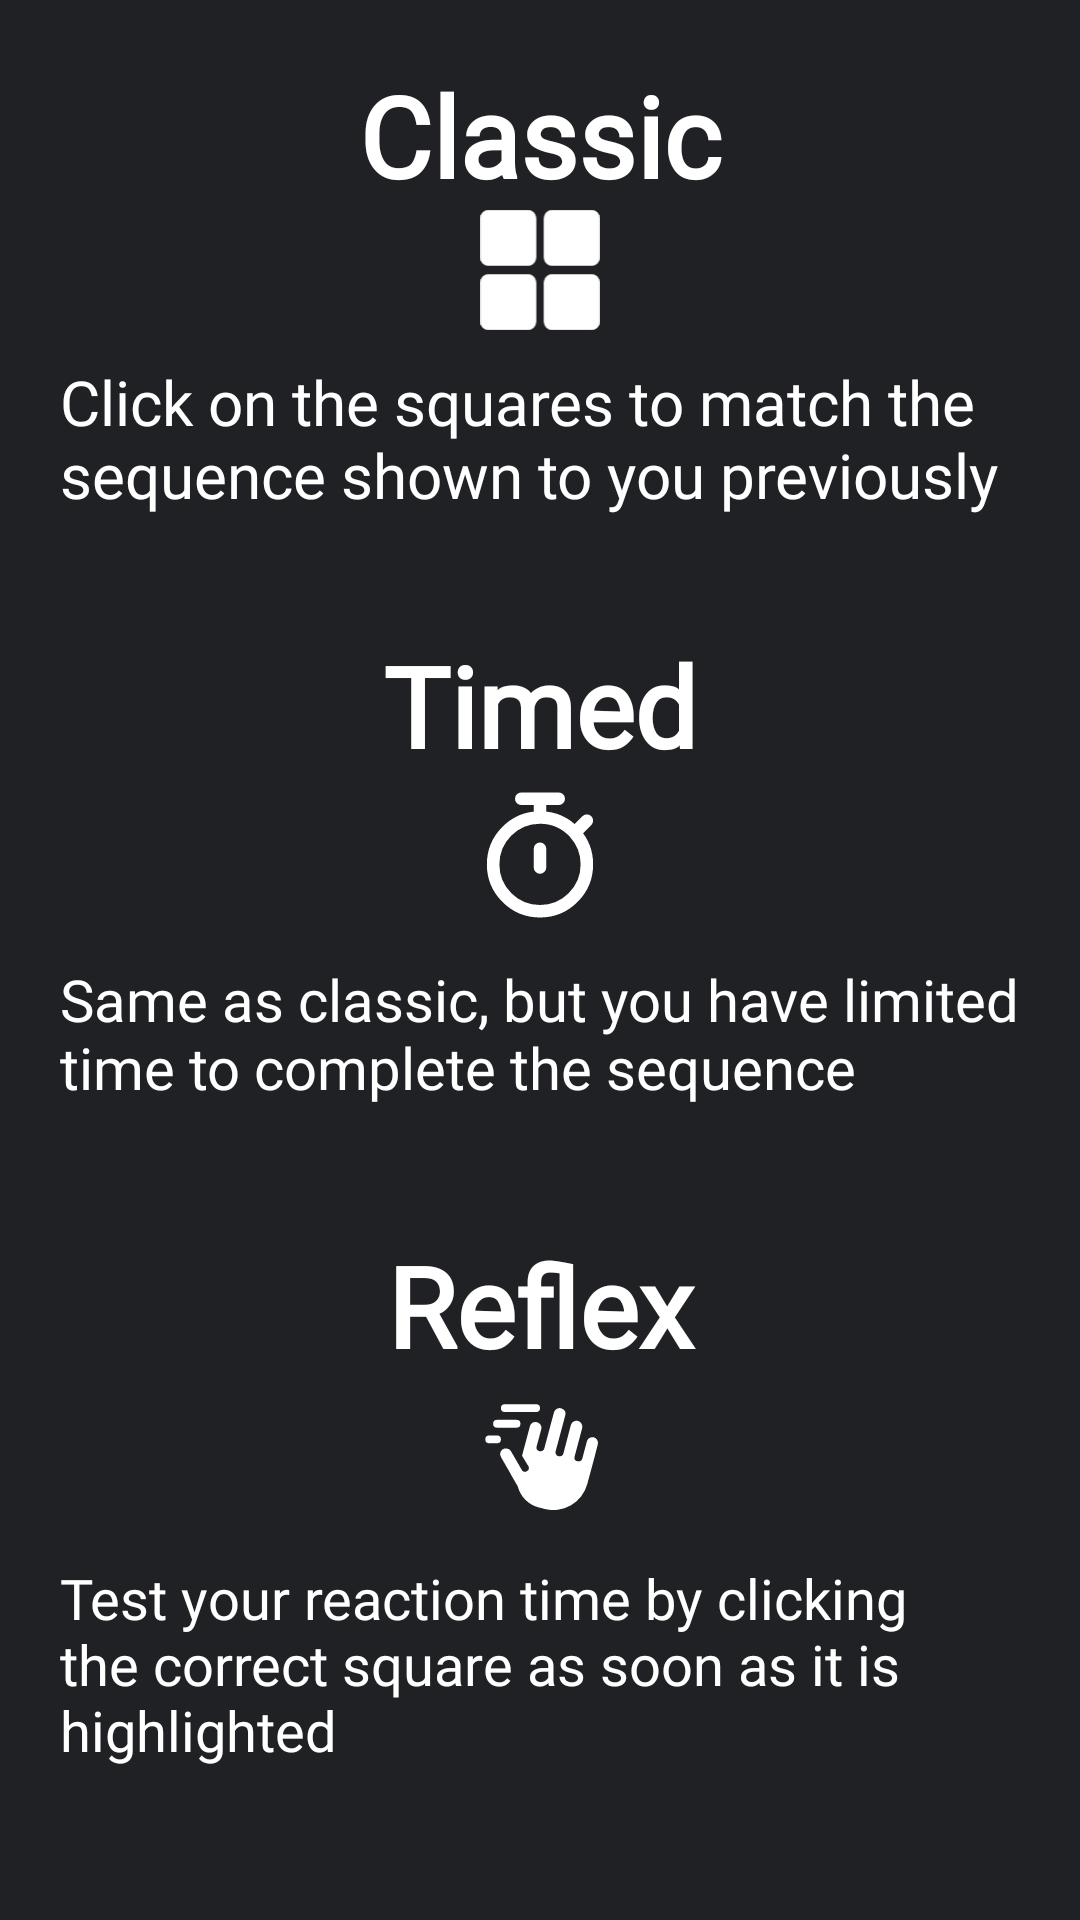

Screen size 1080 x 1920. Icon name, then its box in pixels as (x1, y1, x2, y2):
fast hand: (485, 1404, 598, 1510)
grid: (480, 210, 600, 330)
stopwatch: (487, 792, 593, 918)
